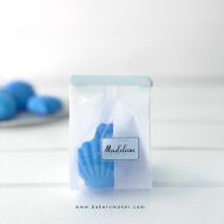snack: (58, 68, 160, 198)
